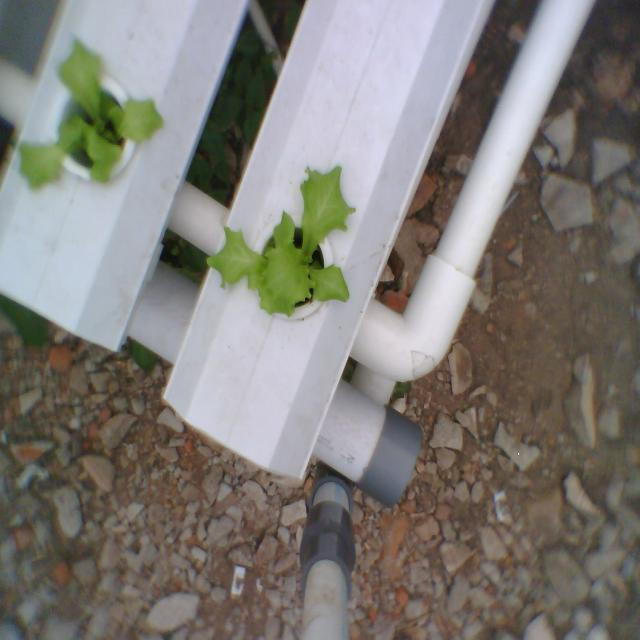FN: (195, 156, 363, 328), (13, 31, 168, 202)
